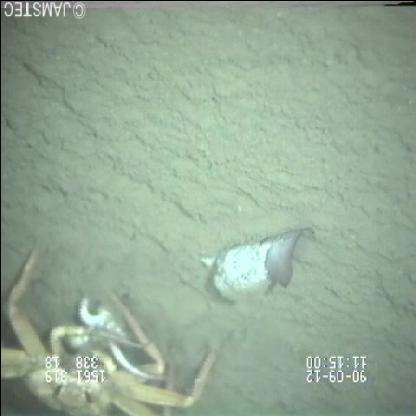Bio: (193, 232, 320, 302)
